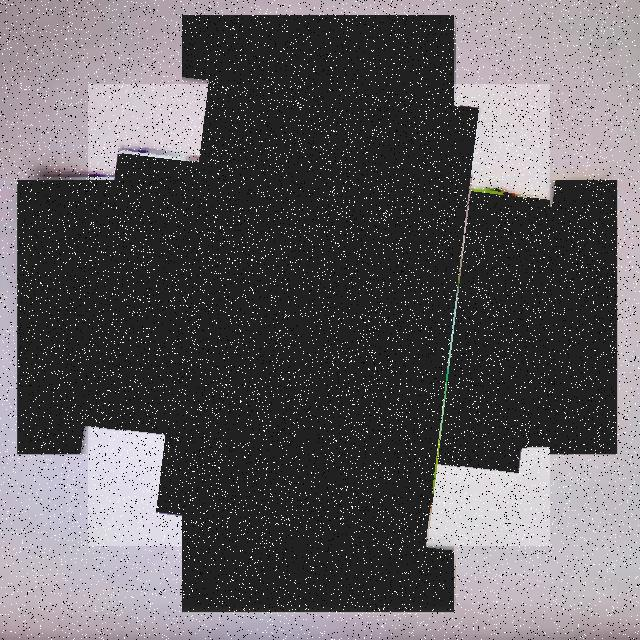lima puluh ribu rupiah: (88, 83, 550, 546)
